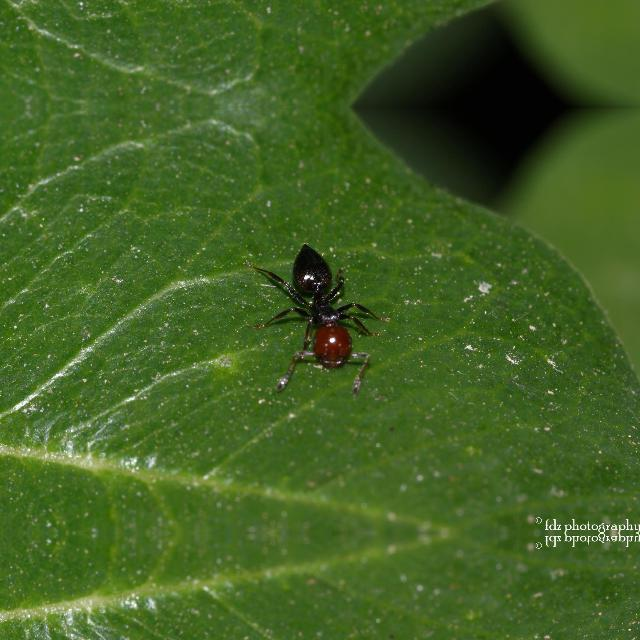Crematogaster: (264, 238, 376, 382)
